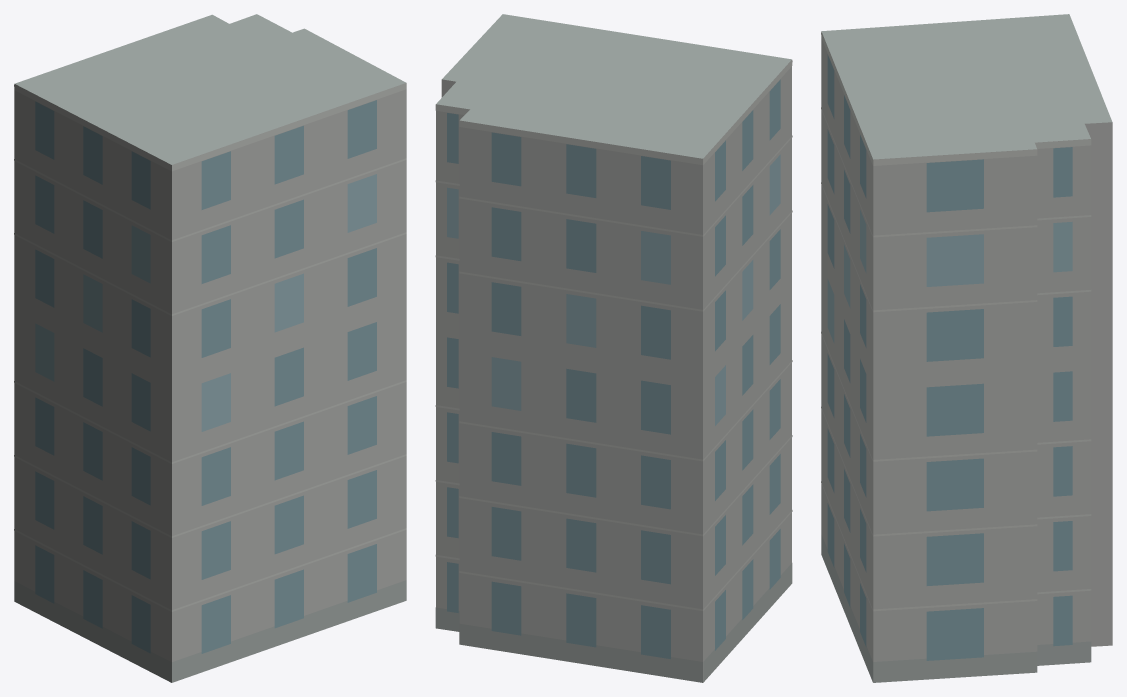
The model's file is survey-upis-32911331.glb.
The picture shows the model from 3 angles, left to right: view 1: azimuth 30°, elevation 25°; view 2: azimuth 150°, elevation 25°; view 3: azimuth 270°, elevation 25°; orthographic projection.
Visible parts, largest first — view 1: survey-upis-32911331.tmp; view 2: survey-upis-32911331.tmp; view 3: survey-upis-32911331.tmp.
Part boxes in pixels (bbox=[...]): survey-upis-32911331.tmp: bbox=[14, 14, 406, 682]; survey-upis-32911331.tmp: bbox=[435, 14, 792, 682]; survey-upis-32911331.tmp: bbox=[821, 14, 1112, 682].
Bounding box in the file's own units: 11.74 × 19.65 × 9.93.
